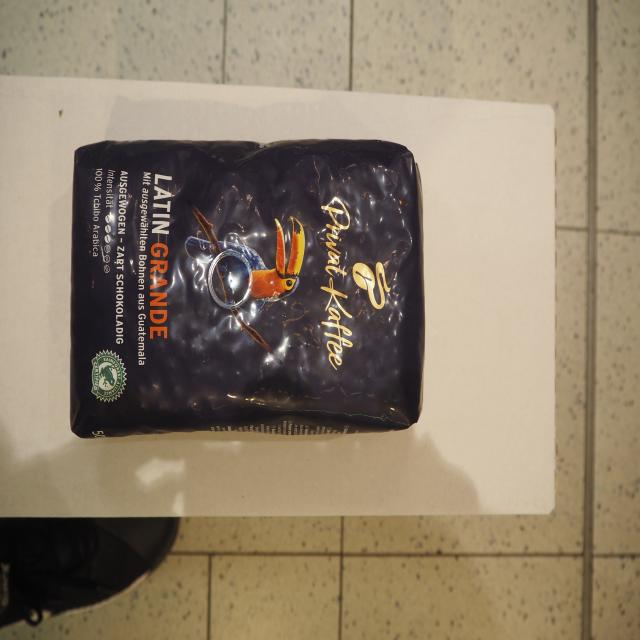LG Bohne: (68, 136, 430, 446)
